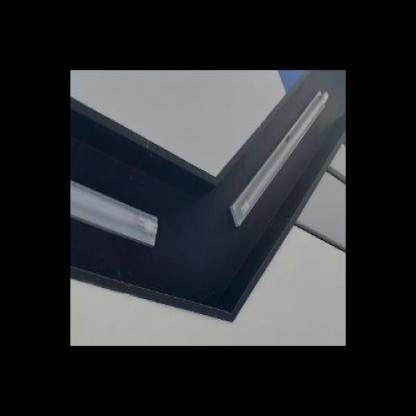light_off: (224, 83, 333, 234), (70, 146, 162, 264)
